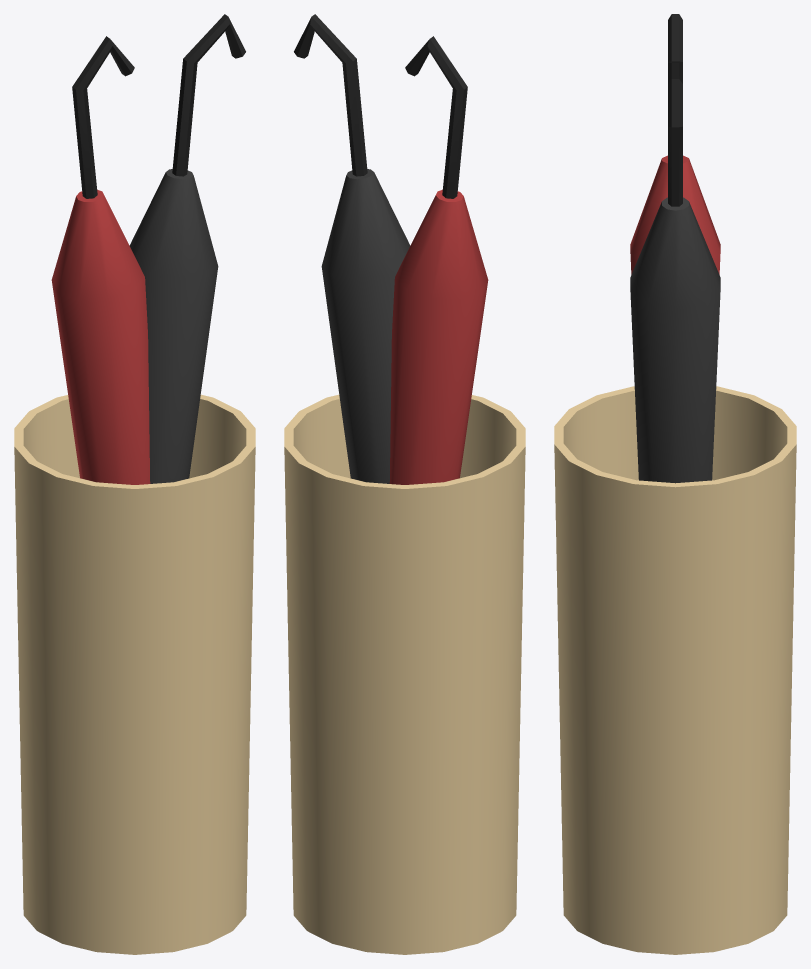
File: umbrella_stand.glb
3 views of the same model, side by side, from view 1: azimuth 30°, elevation 25°; view 2: azimuth 150°, elevation 25°; view 3: azimuth 270°, elevation 25° (orthographic).
Parts seen in each view (by area): view 1: Umbrella stand, Umbrella.001, Umbrella, Black plastic; view 2: Umbrella stand, Umbrella.001, Umbrella, Black plastic; view 3: Umbrella stand, Umbrella, Umbrella.001, Black plastic.
Boxes of the visible parts, <box> form: Umbrella stand: <box>14,394,255,954</box>; Umbrella.001: <box>51,189,150,484</box>; Umbrella: <box>129,169,218,483</box>; Black plastic: <box>72,14,245,198</box>; Umbrella stand: <box>284,394,525,954</box>; Umbrella.001: <box>389,189,488,484</box>; Umbrella: <box>321,169,410,483</box>; Black plastic: <box>294,14,467,198</box>; Umbrella stand: <box>554,386,796,954</box>; Umbrella: <box>630,197,720,483</box>; Umbrella.001: <box>630,155,720,274</box>; Black plastic: <box>668,14,682,206</box>.
Size of the model in its own units: 0.264 by 1.03 by 0.2561.
